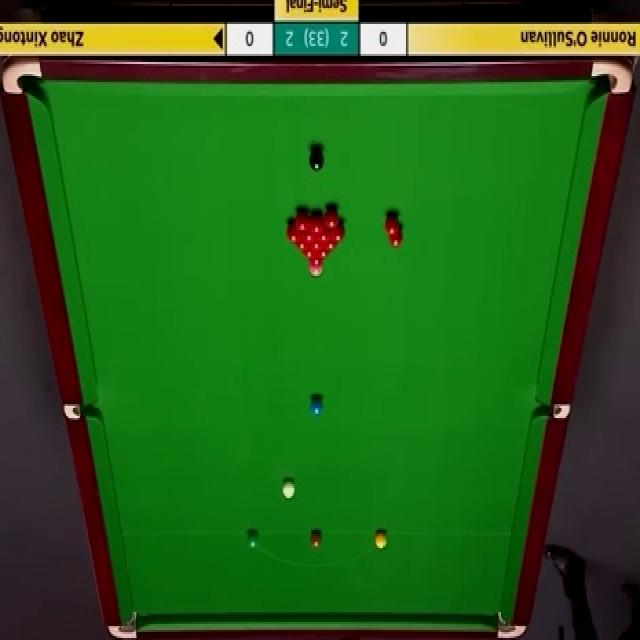black-ball: (309, 147, 325, 174)
blue-ball: (309, 394, 322, 416)
brown-ball: (310, 531, 322, 549)
green-ball: (247, 530, 258, 550)
pink-ball: (308, 264, 324, 281)
red-ball: (382, 210, 401, 236), (324, 205, 340, 228), (309, 211, 324, 235), (285, 223, 302, 243), (293, 209, 309, 230), (330, 222, 345, 243), (388, 228, 402, 250), (302, 224, 315, 242), (316, 228, 331, 243), (300, 248, 318, 258), (293, 240, 309, 251), (308, 258, 325, 268), (308, 240, 324, 250), (317, 249, 333, 258), (324, 239, 337, 250)
white-ball: (281, 478, 297, 502)
yellow-ball: (373, 530, 388, 551)
